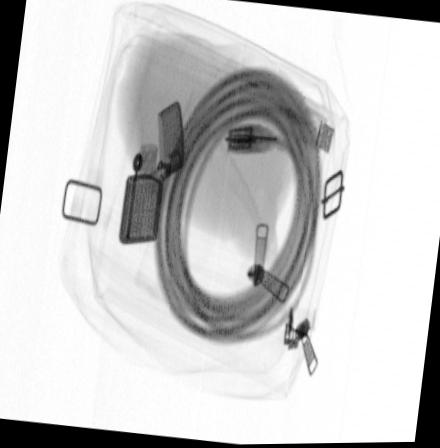Lighter: (117, 100, 184, 246)
